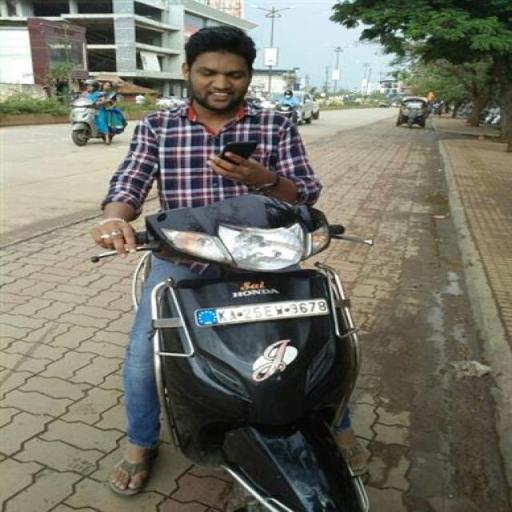numberplate: (187, 294, 335, 326)
using mobile: (209, 136, 261, 176)
